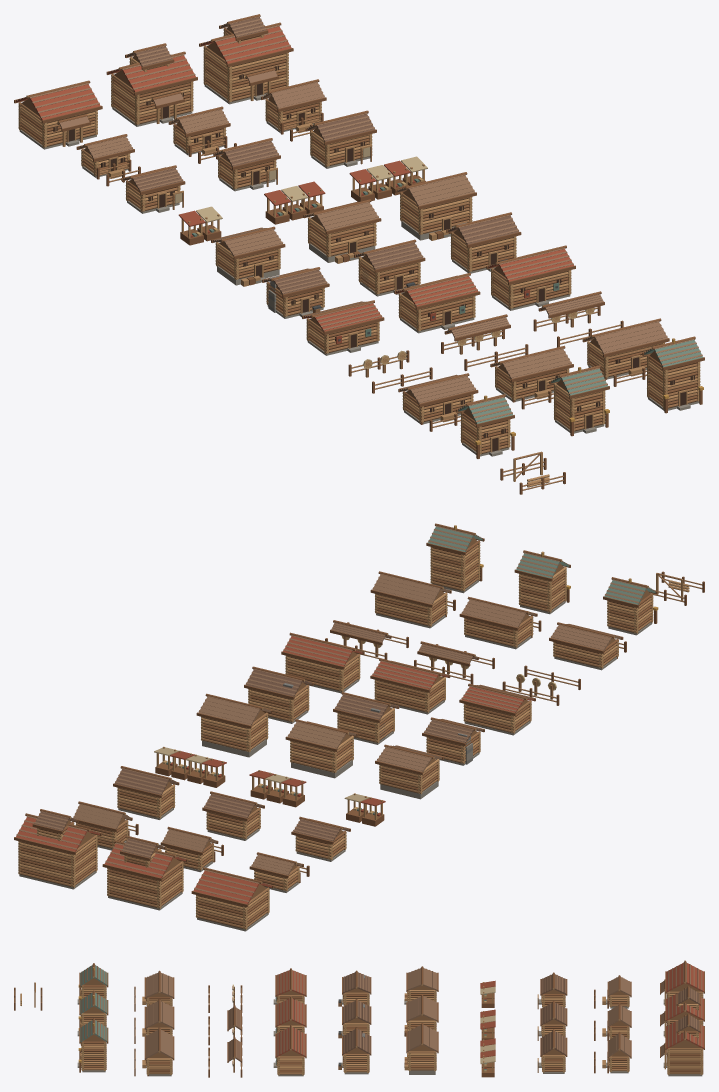
Rendered from construction_models.glb.
3 views of the same model, one above another, from view 1: azimuth 30°, elevation 25°; view 2: azimuth 150°, elevation 25°; view 3: azimuth 270°, elevation 25° (orthographic). The views are drawn at different scales.
Parts seen in each view (by area): view 1: hall_3, hall_2, hall_1, barracks_3, warehouse_3, barracks_2, shrine_3, warehouse_2, stables_3, warehouse_1, barracks_1, shrine_2 (+19 smaller); view 2: hall_3, hall_2, hall_1, warehouse_3, barracks_3, stables_3, shrine_3, warehouse_2, barracks_2, stables_2, barracks_1, warehouse_1 (+19 smaller); view 3: hall_3, warehouse_3, barracks_3, shrine_3, stables_3, forge_3, hall_2, hall_1, lodge_3, farm_3, warehouse_2, warehouse_1 (+17 smaller).
Part boxes in pixels (x1,y1,x2,y2): hall_3: [199, 14, 293, 104]; hall_2: [106, 43, 197, 126]; hall_1: [14, 80, 102, 149]; barracks_3: [486, 245, 575, 310]; warehouse_3: [395, 172, 476, 240]; barracks_2: [394, 273, 480, 333]; shrine_3: [642, 336, 704, 413]; warehouse_2: [303, 199, 381, 263]; stables_3: [582, 318, 669, 386]; warehouse_1: [211, 226, 285, 286]; barracks_1: [302, 300, 384, 355]; shrine_2: [549, 365, 609, 436]; hall_3: [14, 809, 101, 889]; hall_2: [102, 836, 187, 910]; hall_1: [191, 867, 273, 931]; warehouse_3: [196, 693, 272, 757]; barracks_3: [281, 632, 364, 693]; stables_3: [370, 571, 455, 628]; shrine_3: [426, 523, 484, 593]; warehouse_2: [285, 719, 358, 778]; barracks_2: [370, 658, 450, 714]; stables_2: [459, 596, 541, 649]; barracks_1: [459, 683, 535, 735]; warehouse_1: [375, 744, 443, 799]; hall_3: [660, 1013, 704, 1076]; warehouse_3: [404, 1023, 438, 1074]; barracks_3: [273, 1025, 306, 1076]; shrine_3: [77, 1018, 108, 1072]; stables_3: [134, 1027, 174, 1076]; forge_3: [338, 1027, 371, 1074]; hall_2: [660, 986, 704, 1037]; hall_1: [660, 960, 704, 1005]; lodge_3: [537, 1029, 567, 1073]; farm_3: [594, 1032, 631, 1073]; warehouse_2: [404, 994, 438, 1036]; warehouse_1: [404, 966, 438, 1004].
Bounding box in the file's own units: 21.66 × 5.57 × 73.62.
